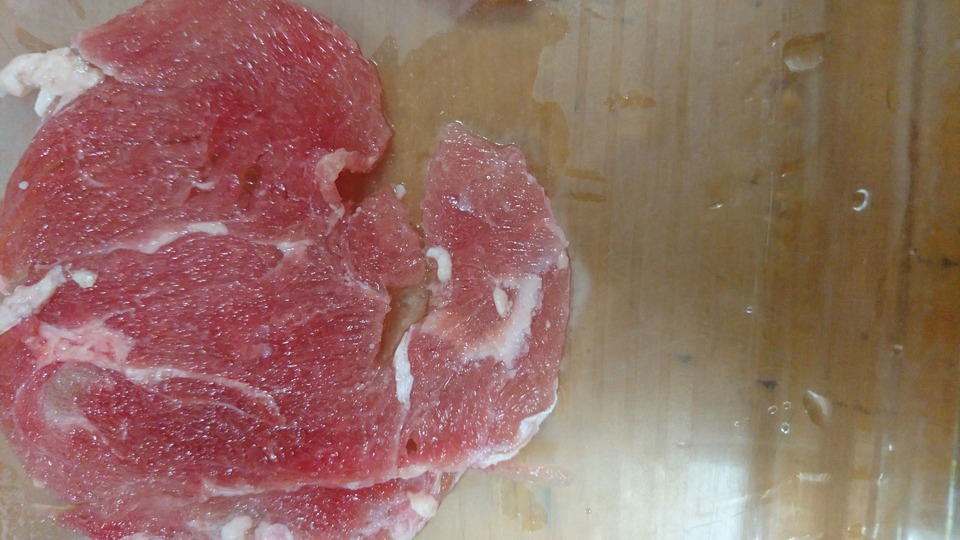restructured meat: (3, 8, 571, 520)
